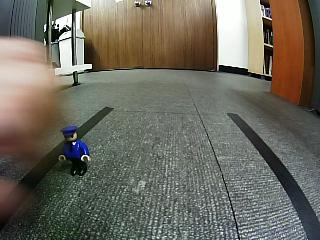person: (58, 126, 92, 176)
